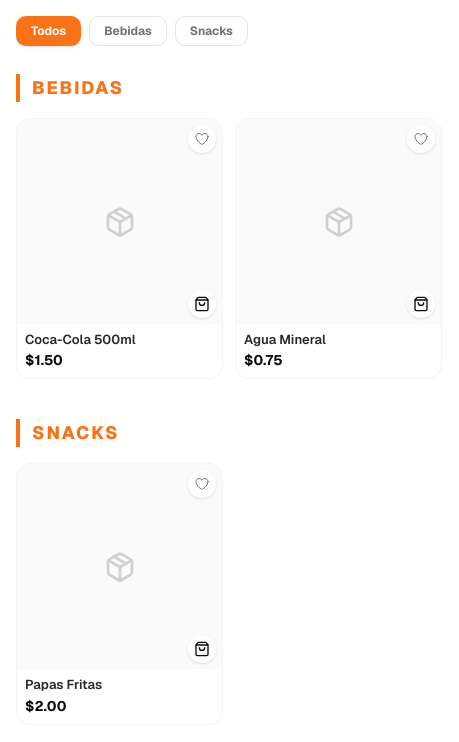
Test case: StorefrontCatalog › should filter products by category when a chip is selected
What coordinates should you click on to do the following:
click the button "Bebidas"
I would click on:
 (128, 31)
Its box is [89,16,167,46].
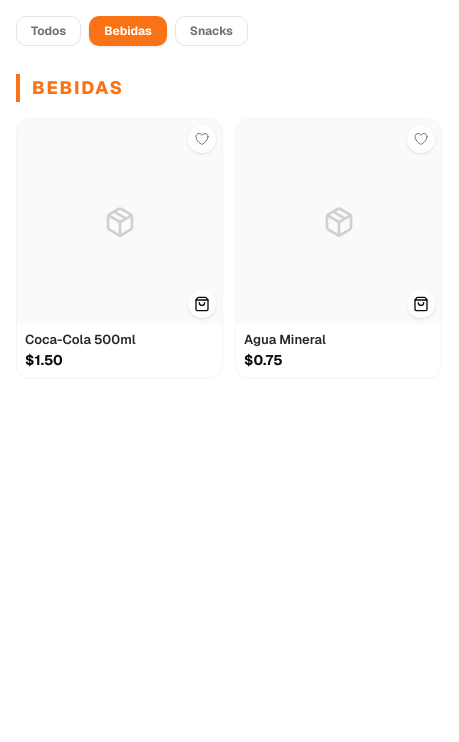
Expected: the heading "Coca-Cola 500ml" is shown, [25,331,136,348]
Expected: the heading "Papas Fritas" is gone
